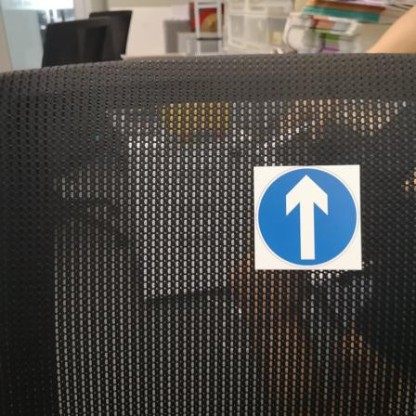forward: (251, 164, 359, 267)
